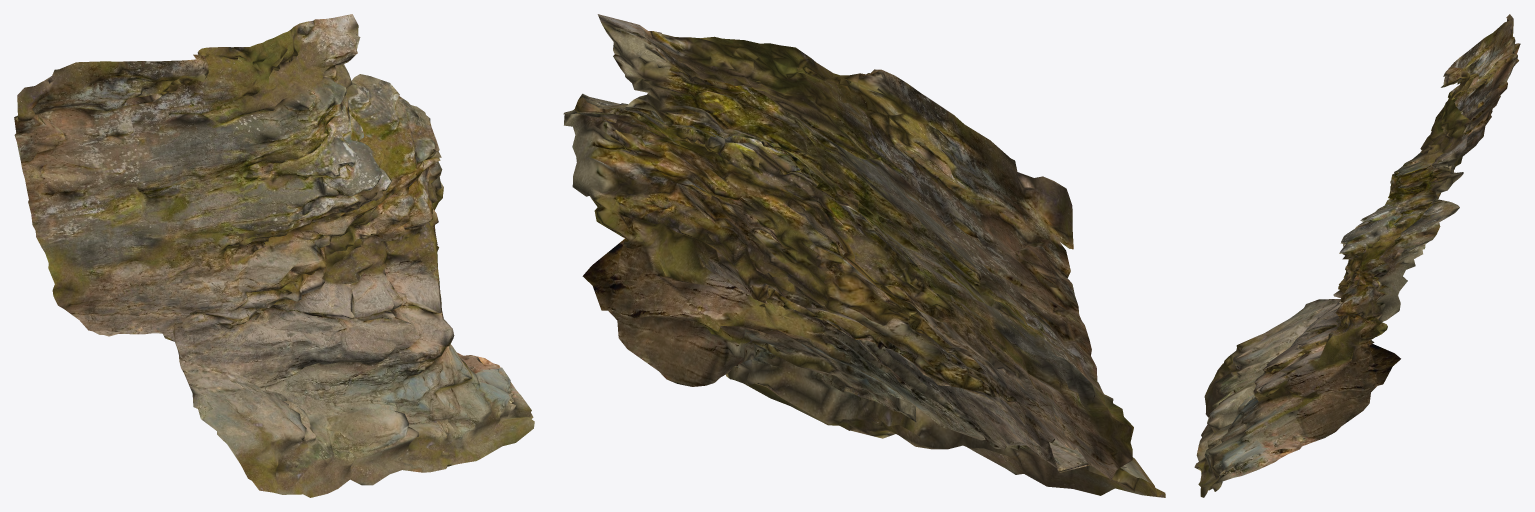
Rendered from rock_face_02_lod0.glb.
The picture shows the model from 3 angles, left to right: view 1: azimuth 30°, elevation 25°; view 2: azimuth 150°, elevation 25°; view 3: azimuth 270°, elevation 25°; orthographic projection. The views are drawn at different scales.
Visible parts, largest first — view 1: rock_face_02; view 2: rock_face_02; view 3: rock_face_02.
Boxes of the visible parts, x1,y1,x2,y2 form: rock_face_02: (14,14,534,497); rock_face_02: (563,14,1165,497); rock_face_02: (1194,14,1520,497).
Size of the model in its own units: 2.71 by 2.47 by 2.13.
Materials: 1 (1 with a texture image).
